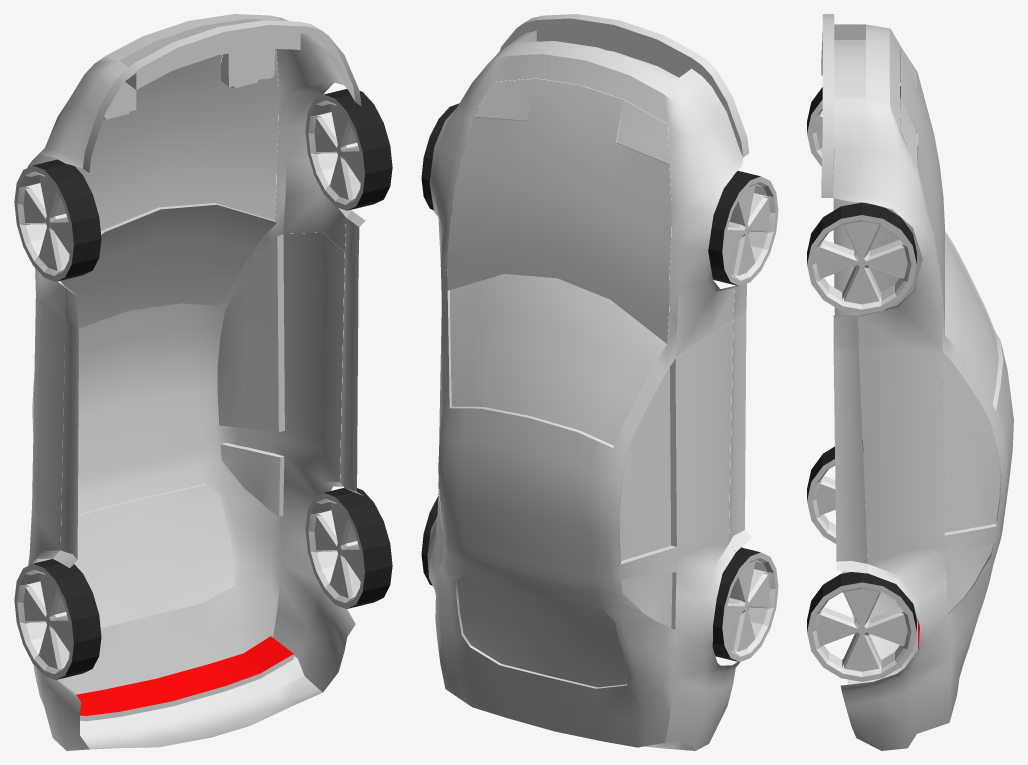
Rendered from Nassan 300ZXZ.fbx.
3 renders of one model, left to right at view 1: azimuth 30°, elevation 25°; view 2: azimuth 150°, elevation 25°; view 3: azimuth 270°, elevation 25°, orthographic. The views are drawn at different scales.
Parts seen in each view (by area): view 1: Nassan 300xz, Wheels.FR, Wheels.RL, Wheels.RR, Wheels.FL; view 2: Nassan 300xz, Wheels.FR, Wheels.RR, HeadLights.Glass, Wheels.FL; view 3: Nassan 300xz, Wheels.FL, Wheels.RL, Wheels.RR, Wheels.FR, HeadLights.Glass.
Part boxes in pixels (left/top/right/bottom): Nassan 300xz: left=27, top=14, right=365, bottom=750; Wheels.FR: left=14, top=159, right=101, bottom=281; Wheels.RL: left=305, top=488, right=392, bottom=608; Wheels.RR: left=14, top=559, right=101, bottom=679; Wheels.FL: left=305, top=89, right=392, bottom=210; Nassan 300xz: left=427, top=14, right=751, bottom=750; Wheels.FR: left=708, top=171, right=778, bottom=286; Wheels.RR: left=712, top=547, right=778, bottom=662; HeadLights.Glass: left=474, top=78, right=669, bottom=164; Wheels.FL: left=421, top=103, right=478, bottom=211; Nassan 300xz: left=821, top=14, right=1013, bottom=750; Wheels.FL: left=807, top=202, right=916, bottom=314; Wheels.RL: left=807, top=572, right=916, bottom=681; Wheels.RR: left=807, top=440, right=867, bottom=549; Wheels.FR: left=807, top=86, right=916, bottom=166; HeadLights.Glass: left=900, top=48, right=916, bottom=165.
Size of the model in its own units: 136 by 295 by 82.97.
